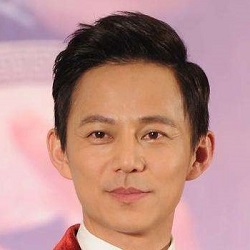unmask: (62, 60, 196, 235)
